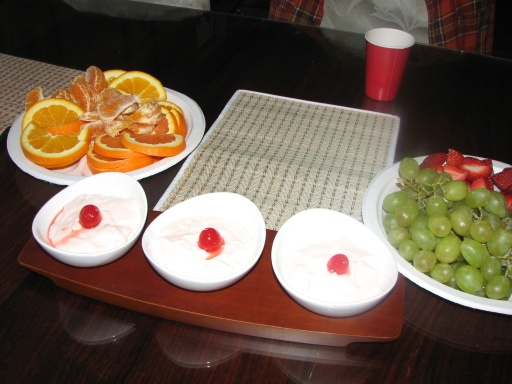background: (85, 40, 310, 181), (104, 88, 409, 179), (90, 39, 209, 167), (16, 39, 149, 104), (37, 37, 110, 151)
